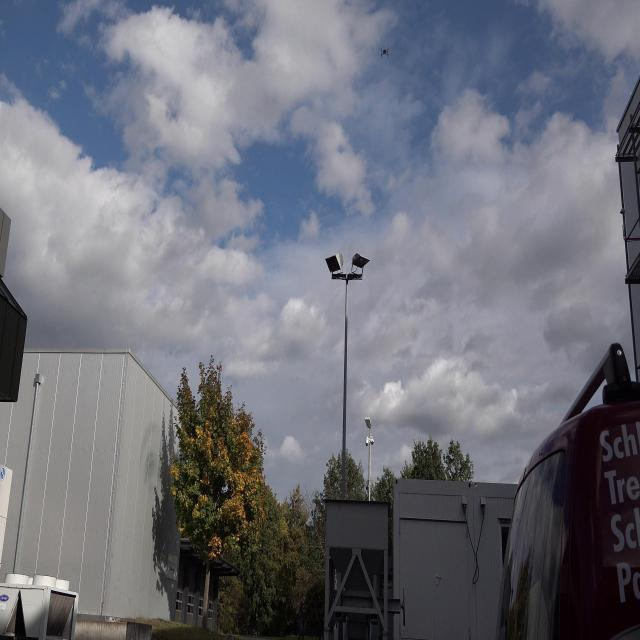drone: (374, 34, 401, 70)
